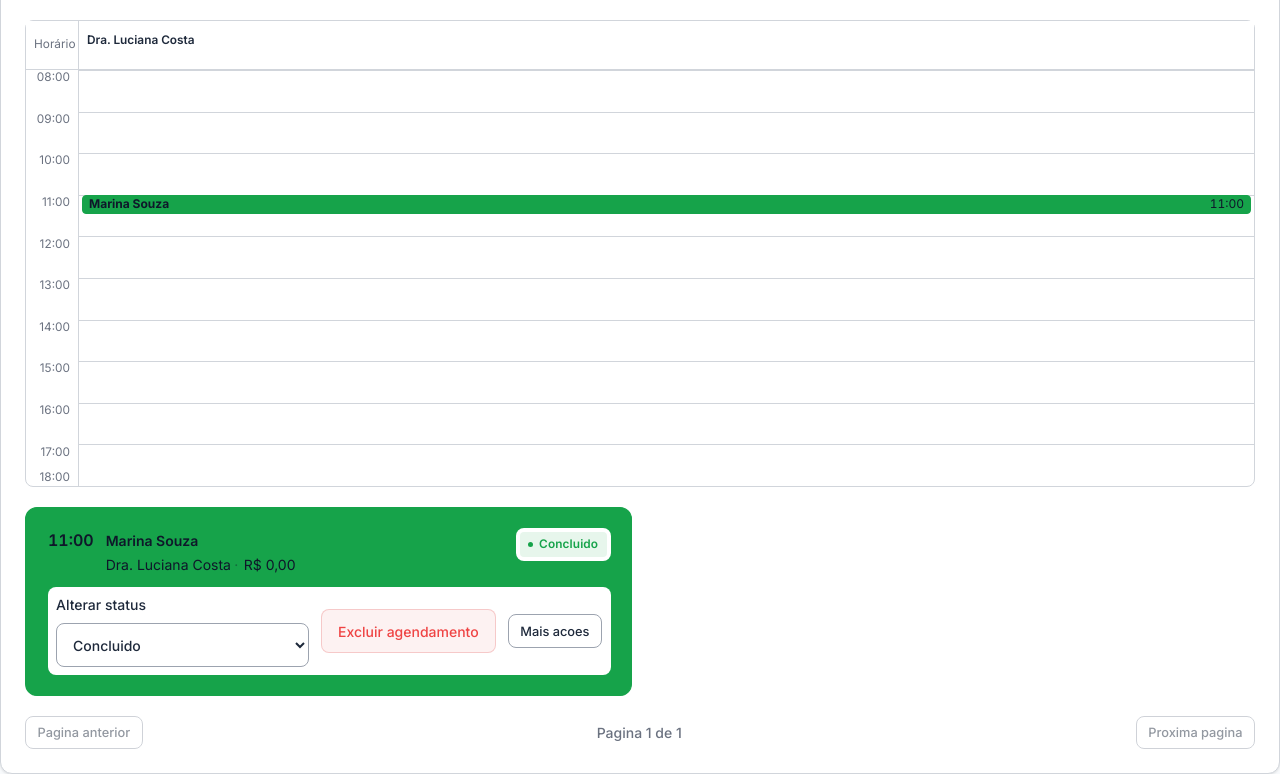
Scenario: AppointmentBoard › keeps deletion confirmation open and explains protected history
The width and height of the screenshot is (1280, 774).
(page scrolled)
Step 1. Click the button "Excluir agendamento" → click(408, 631), box [321,609,496,653]
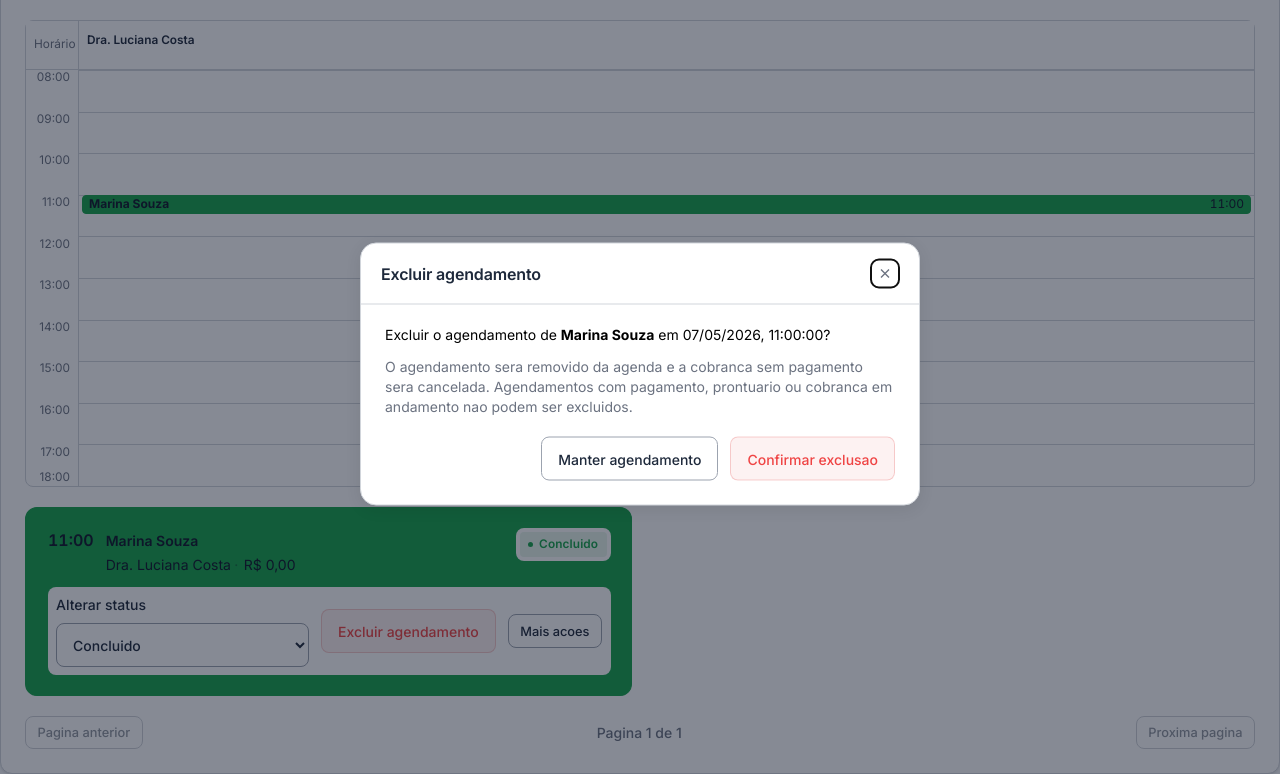
Step 2. Click the button "Confirmar exclusao" → click(813, 458), box [730,436,895,480]
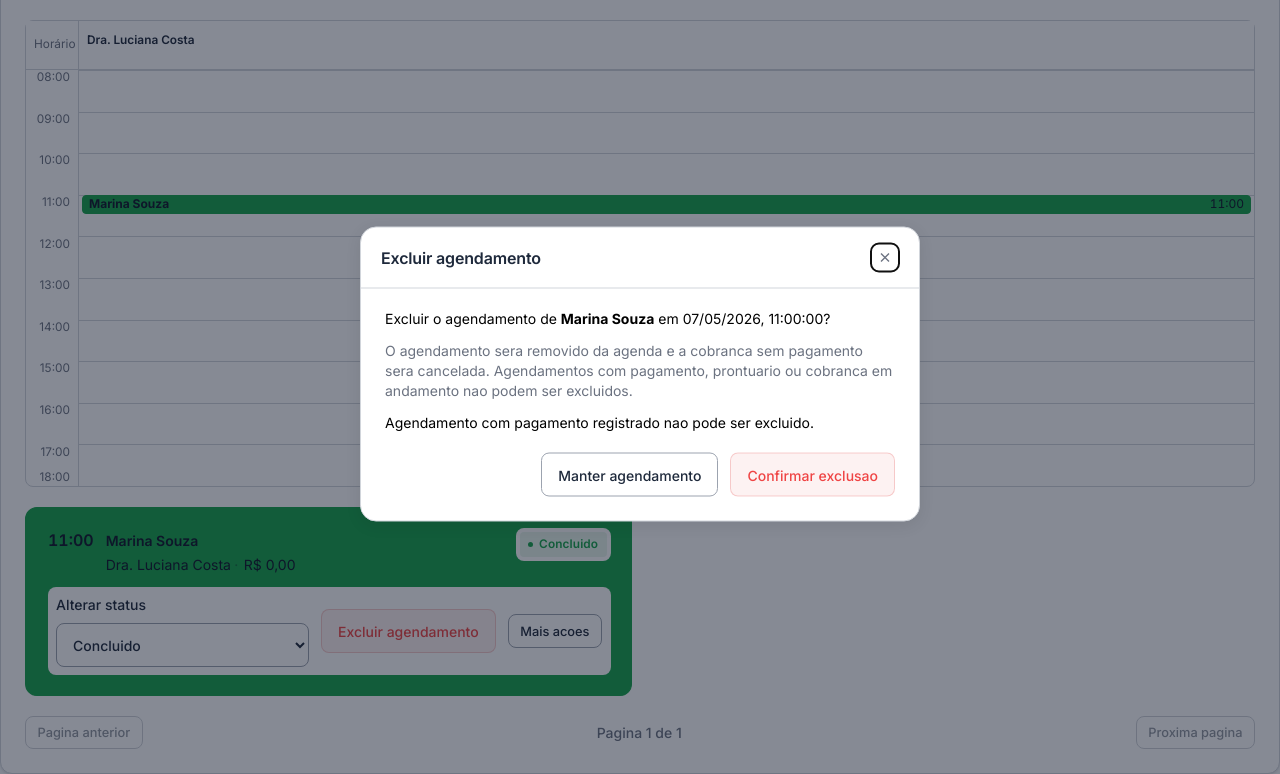
Expected: the heading "Excluir agendamento" is shown, [381,246,541,270]
Expected: the message reads "Agendamento com pagamento registrado nao pode ser excluido.", [385,414,814,430]
